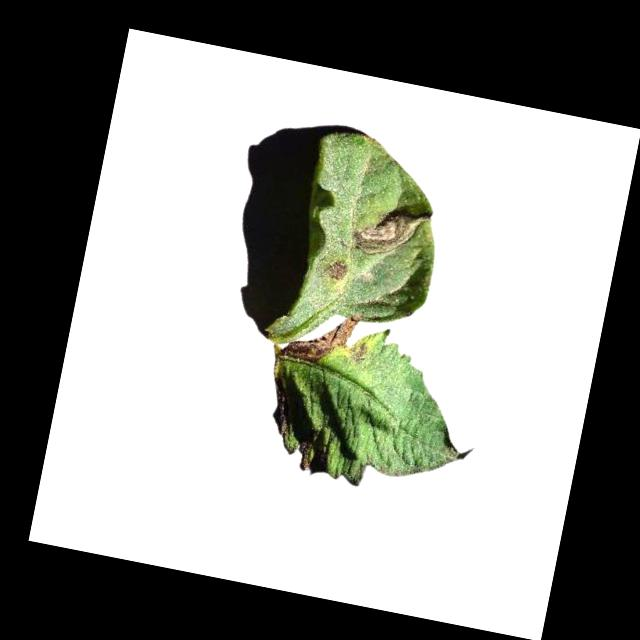Early_blight: (281, 297, 363, 373), (348, 201, 421, 262), (321, 255, 349, 283), (296, 439, 316, 473)
